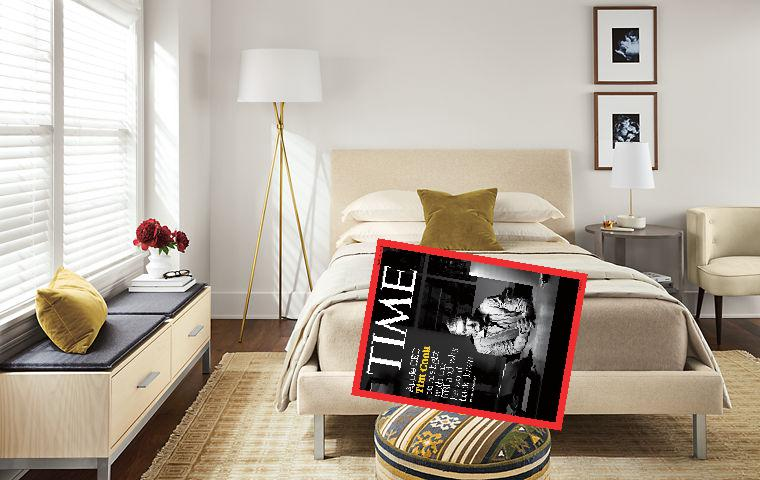times: (350, 237, 584, 430)
